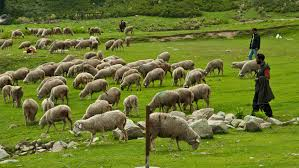sheep: (65, 109, 130, 146), (148, 111, 195, 154), (168, 85, 199, 114), (36, 107, 73, 130), (81, 98, 113, 122), (138, 68, 168, 90), (1, 85, 25, 112), (78, 82, 116, 99), (33, 83, 65, 103), (151, 91, 178, 113), (20, 97, 39, 128), (100, 86, 125, 109), (240, 58, 266, 80), (185, 80, 211, 102), (118, 92, 137, 118), (43, 74, 73, 90), (205, 58, 228, 76), (25, 70, 49, 87), (117, 67, 139, 85), (118, 75, 144, 90), (1, 69, 19, 89), (59, 56, 82, 71), (33, 60, 56, 75), (67, 65, 91, 78), (182, 71, 206, 83), (94, 64, 112, 80), (6, 25, 24, 40), (110, 37, 128, 52), (229, 54, 245, 70), (49, 39, 67, 53), (56, 62, 70, 78), (75, 38, 91, 52), (82, 55, 102, 66), (125, 68, 137, 86), (15, 39, 34, 50), (86, 26, 104, 36), (142, 62, 159, 72), (37, 26, 52, 37), (67, 35, 80, 47), (38, 37, 49, 50), (116, 19, 126, 33), (1, 39, 12, 50), (109, 58, 121, 68), (104, 39, 114, 51), (64, 26, 74, 37), (51, 27, 64, 35), (158, 54, 171, 61), (35, 26, 44, 35), (125, 26, 133, 34)
